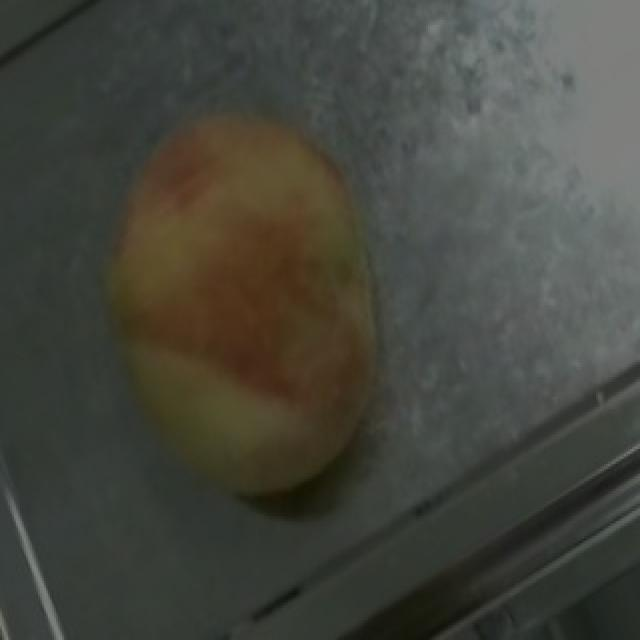Fruit: (72, 74, 420, 420)
